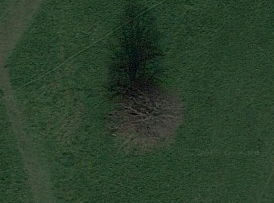tree: (103, 74, 191, 157)
